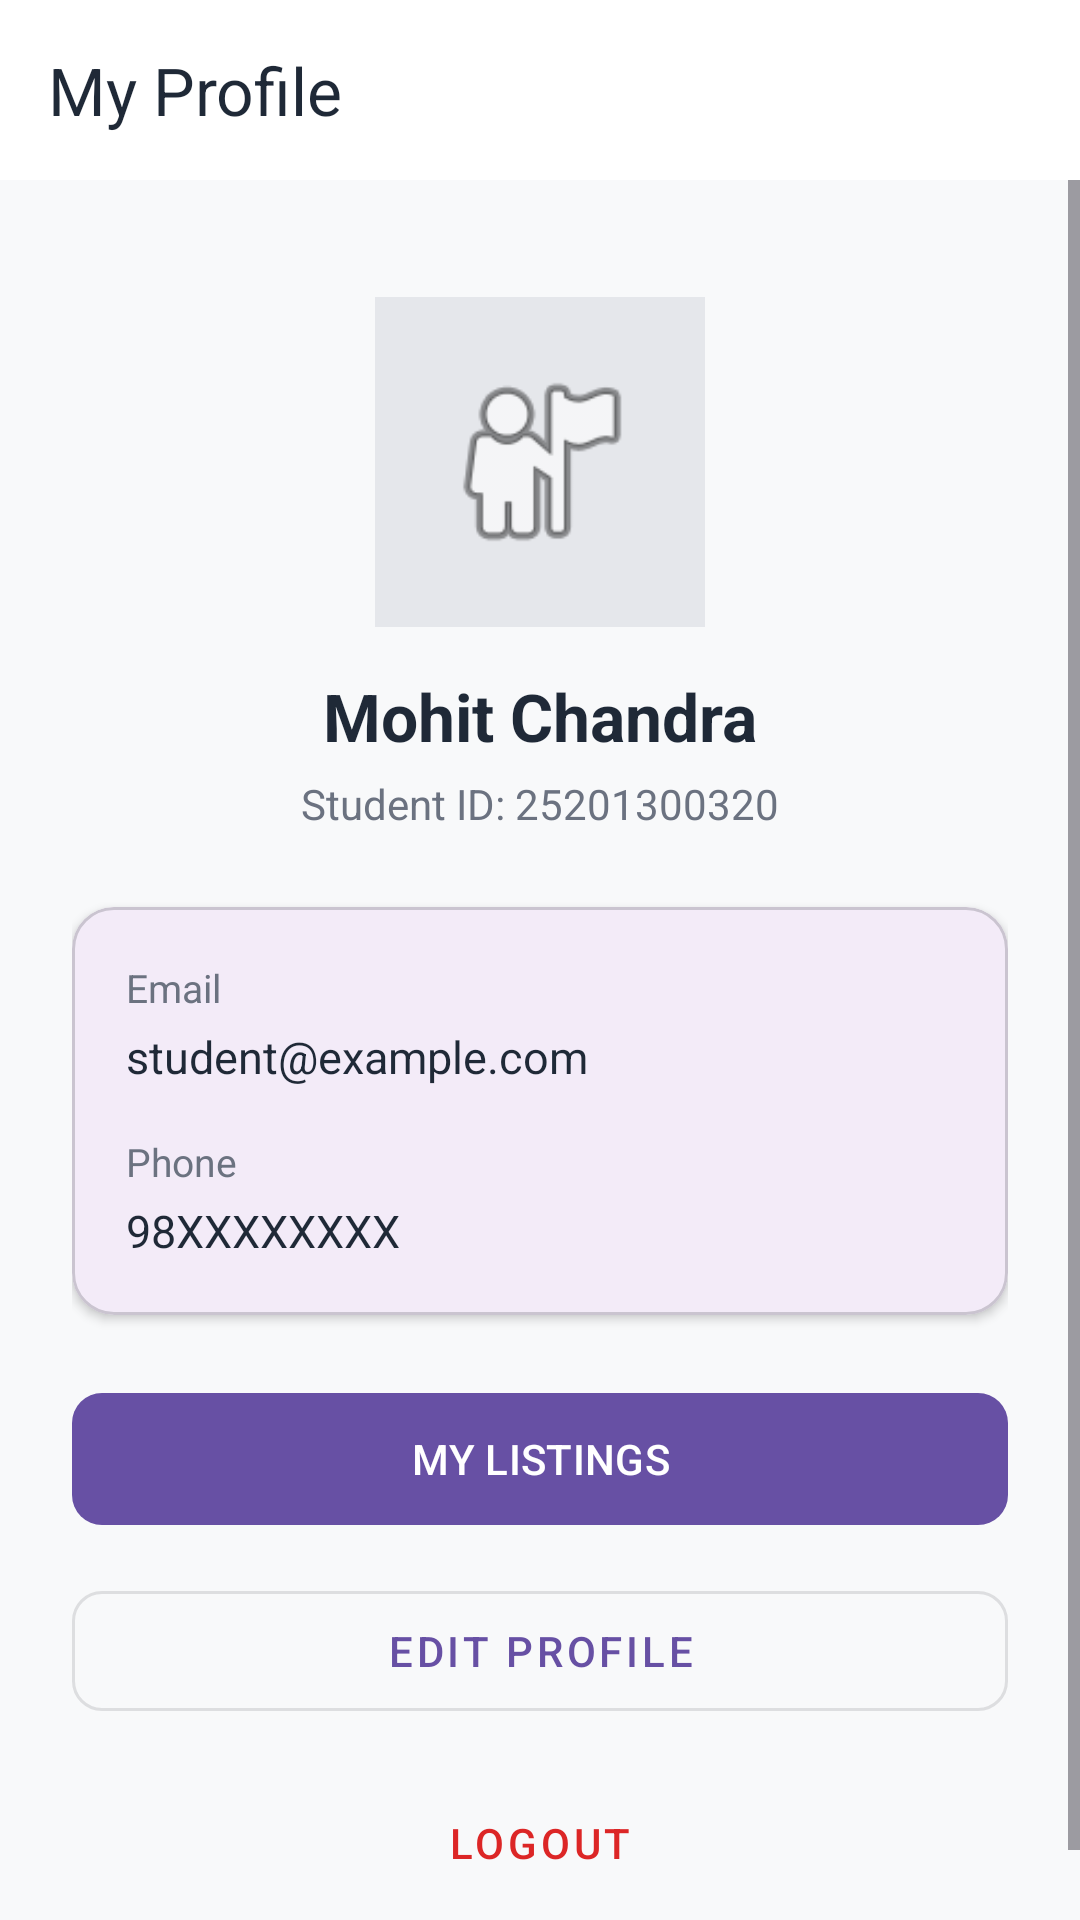

Icons on this 1080px x 1920px Android screen, each with the point to tap as [x,y]:
Profile Photo: [540,462]
